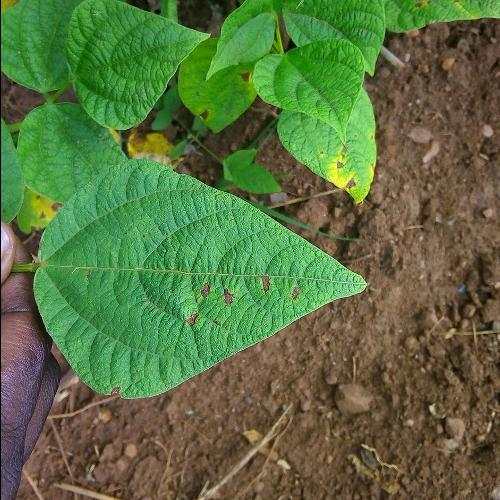hawar: (180, 254, 310, 331)
